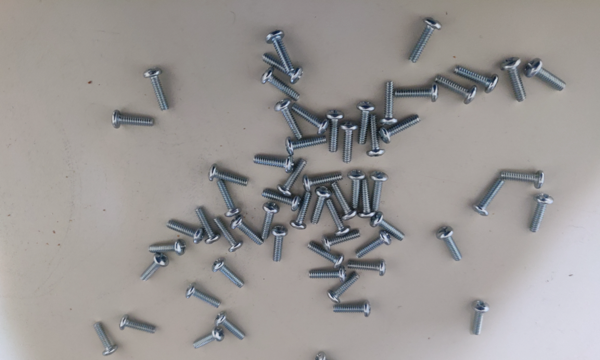shortscrew: (409, 17, 443, 63), (524, 58, 567, 92), (261, 67, 301, 102), (434, 75, 478, 105), (454, 65, 499, 94), (265, 30, 294, 74), (262, 53, 303, 84), (291, 103, 329, 136), (473, 179, 505, 218), (380, 115, 422, 144), (500, 58, 527, 103), (274, 99, 303, 140), (277, 159, 308, 197), (143, 68, 170, 111), (213, 216, 243, 253), (370, 212, 406, 242), (327, 272, 360, 304), (230, 215, 264, 246), (308, 242, 345, 270), (331, 183, 358, 221), (212, 258, 245, 289), (530, 193, 555, 233), (355, 231, 392, 258), (195, 207, 221, 245), (166, 220, 205, 245), (216, 179, 241, 218), (326, 198, 351, 237), (395, 81, 439, 103), (208, 164, 250, 187), (437, 226, 464, 261), (262, 189, 302, 212), (186, 284, 223, 308), (94, 322, 119, 357), (215, 313, 246, 341), (357, 102, 377, 145), (141, 253, 170, 282), (501, 171, 545, 190), (290, 192, 312, 230), (311, 187, 333, 225), (322, 231, 361, 252), (326, 110, 345, 153), (380, 81, 398, 126), (119, 315, 157, 336), (253, 155, 295, 174), (367, 115, 386, 157), (303, 173, 344, 192), (112, 111, 155, 129), (341, 121, 359, 164), (192, 327, 225, 350), (370, 172, 389, 211), (347, 170, 366, 209), (286, 137, 327, 155), (261, 203, 280, 240), (359, 179, 376, 219), (472, 300, 490, 336), (348, 260, 386, 277), (271, 226, 288, 263), (333, 301, 371, 317), (149, 240, 186, 256), (315, 352, 348, 360)
